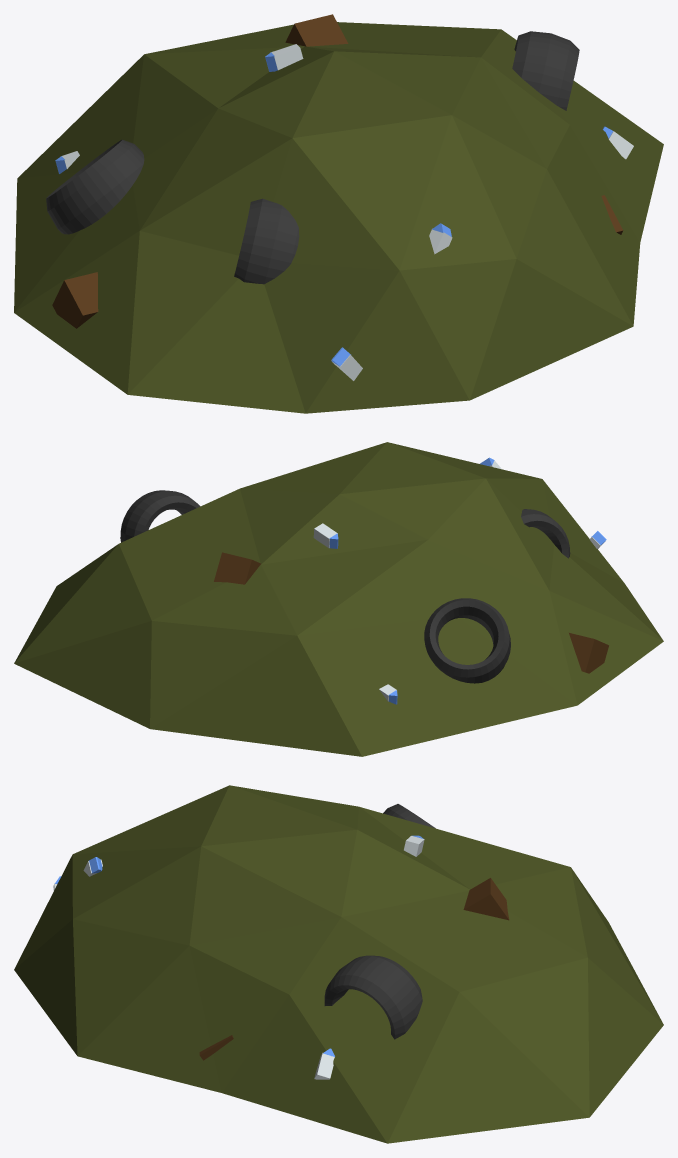
File: Trash3.fbx
3 views of the same model, one above another, from view 1: azimuth 30°, elevation 25°; view 2: azimuth 150°, elevation 25°; view 3: azimuth 270°, elevation 25° (orthographic). The views are drawn at different scales.
Parts seen in each view (by area): view 1: Icosphere.005; view 2: Icosphere.005; view 3: Icosphere.005.
Boxes of the visible parts, x1=… form: Icosphere.005: x1=14, y1=14, x2=663, y2=413; Icosphere.005: x1=14, y1=442, x2=663, y2=756; Icosphere.005: x1=14, y1=785, x2=663, y2=1143.
Bounding box in the file's own units: 3433 × 971 × 3353.
